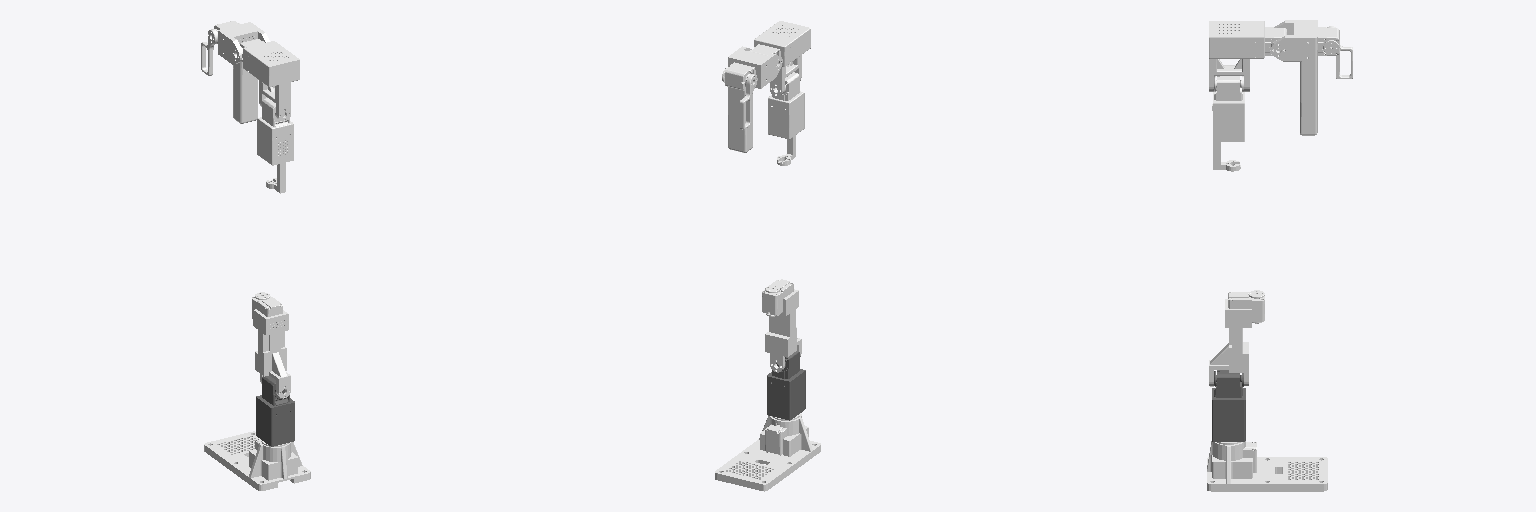
robot.urdf — gello_flexiv_urdf_v4:
<?xml version="1.0" encoding="utf-8"?>
<!-- This URDF was automatically created by SolidWorks to URDF Exporter! Originally created by Stephen Brawner (brawner@gmail.com) 
     Commit Version: 1.6.0-4-g7f85cfe  Build Version: 1.6.7995.38578
     For more information, please see http://wiki.ros.org/sw_urdf_exporter -->
<robot
  name="gello_flexiv_urdf_v4">
     <link name="world" />
   <joint name="joint0" type="fixed">
    <origin rpy="0 0 0" xyz="0 0 0" />
    <parent link="world" />
    <child link="base_link" />
  </joint>
  <link
    name="base_link">
    <inertial>
      <origin
        xyz="-0.000107112319704741 0.028494138890032 0.0157197746304848"
        rpy="0 0 0" />
      <mass
        value="0.159972573129097" />
      <inertia
        ixx="0.000279749981948947"
        ixy="1.03603995505185E-06"
        ixz="-1.32026175724342E-07"
        iyy="9.74063854279363E-05"
        iyz="3.48457303020746E-05"
        izz="0.000332483511876177" />
    </inertial>
    <visual>
      <origin
        xyz="0 0 0"
        rpy="0 0 0" />
      <geometry>
        <mesh
          filename="package://gello_flexiv_urdf_v4/meshes/base_link.STL" />
      </geometry>
      <material
        name="">
        <color
          rgba="1 1 1 1" />
      </material>
    </visual>
    <collision>
      <origin
        xyz="0 0 0"
        rpy="0 0 0" />
      <geometry>
        <mesh
          filename="package://gello_flexiv_urdf_v4/meshes/base_link.STL" />
      </geometry>
    </collision>
  </link>
  <link
    name="link1">
    <inertial>
      <origin
        xyz="4.42070699629982E-08 0.000283037429639135 -0.0256804602074707"
        rpy="0 0 0" />
      <mass
        value="0.074061766722475" />
      <inertia
        ixx="3.03756327571985E-05"
        ixy="7.13395100879856E-11"
        ixz="1.36623647181533E-09"
        iyy="2.88350095273903E-05"
        iyz="-4.9135987221571E-08"
        izz="2.07497185093034E-05" />
    </inertial>
    <visual>
      <origin
        xyz="0 0 0"
        rpy="0 0 0" />
      <geometry>
        <mesh
          filename="package://gello_flexiv_urdf_v4/meshes/link1.STL" />
      </geometry>
      <material
        name="">
        <color
          rgba="0.501960784313725 0.501960784313725 0.501960784313725 0.25" />
      </material>
    </visual>
    <collision>
      <origin
        xyz="0 0 0"
        rpy="0 0 0" />
      <geometry>
        <mesh
          filename="package://gello_flexiv_urdf_v4/meshes/link1.STL" />
      </geometry>
    </collision>
  </link>
  <joint
    name="joint1"
    type="revolute">
    <origin
      xyz="0 0 0.11454"
      rpy="0 0 0" />
    <parent
      link="base_link" />
    <child
      link="link1" />
    <axis
      xyz="0 0 1" />
    <limit
      lower="-1.57"
      upper="1.57"
      effort="500"
      velocity="10" />
  </joint>
  <link
    name="link2">
    <inertial>
      <origin
        xyz="2.87861802087813E-05 -0.0552026897557811 -0.0147654386595076"
        rpy="0 0 0" />
      <mass
        value="0.0753174795151533" />
      <inertia
        ixx="5.52578964075491E-05"
        ixy="1.07245547042861E-08"
        ixz="-5.68892868124126E-09"
        iyy="1.65121510827278E-05"
        iyz="2.27212466123903E-06"
        izz="5.22467557375296E-05" />
    </inertial>
    <visual>
      <origin
        xyz="0 0 0"
        rpy="0 0 0" />
      <geometry>
        <mesh
          filename="package://gello_flexiv_urdf_v4/meshes/link2.STL" />
      </geometry>
      <material
        name="">
        <color
          rgba="1 1 1 1" />
      </material>
    </visual>
    <collision>
      <origin
        xyz="0 0 0"
        rpy="0 0 0" />
      <geometry>
        <mesh
          filename="package://gello_flexiv_urdf_v4/meshes/link2.STL" />
      </geometry>
    </collision>
  </link>
  <joint
    name="joint2"
    type="continuous">
    <origin
      xyz="0 0.02555 0.02086"
      rpy="-1.5707963267949 0 0" />
    <parent
      link="link1" />
    <child
      link="link2" />
    <axis
      xyz="0 0 -1" />
    <limit
      lower="-1.57"
      upper="1.57"
      effort="500"
      velocity="10" />
  </joint>
  <link
    name="link3">
    <inertial>
      <origin
        xyz="-0.00902724643249804 0.0290512082083287 -0.0231115662898683"
        rpy="0 0 0" />
      <mass
        value="0.093272240352883" />
      <inertia
        ixx="8.04182978086656E-05"
        ixy="4.35780863974245E-06"
        ixz="-5.2613893158061E-06"
        iyy="5.66651157324863E-05"
        iyz="2.00203019277628E-05"
        izz="4.02028176130597E-05" />
    </inertial>
    <visual>
      <origin
        xyz="0 0 0"
        rpy="0 0 0" />
      <geometry>
        <mesh
          filename="package://gello_flexiv_urdf_v4/meshes/link3.STL" />
      </geometry>
      <material
        name="">
        <color
          rgba="1 1 1 0.25" />
      </material>
    </visual>
    <collision>
      <origin
        xyz="0 0 0"
        rpy="0 0 0" />
      <geometry>
        <mesh
          filename="package://gello_flexiv_urdf_v4/meshes/link3.STL" />
      </geometry>
    </collision>
  </link>
  <joint
    name="joint3"
    type="continuous">
    <origin
      xyz="3.33329999999965E-05 -0.12307958857722 0.00921665402077125"
      rpy="-1.5707963267949 0 0" />
    <parent
      link="link2" />
    <child
      link="link3" />
    <axis
      xyz="0 0 -1" />
    <limit
      lower="-1.57"
      upper="1.57"
      effort="500"
      velocity="10" />
  </joint>
  <link
    name="link4">
    <inertial>
      <origin
        xyz="0.00923915073389797 0.0557675075660092 0.00249855918394421"
        rpy="0 0 0" />
      <mass
        value="0.0923443779541952" />
      <inertia
        ixx="8.78908521111399E-05"
        ixy="-4.06669152290435E-06"
        ixz="3.28478724954878E-06"
        iyy="2.9920225792953E-05"
        iyz="1.34168479921738E-05"
        izz="7.78581849140491E-05" />
    </inertial>
    <visual>
      <origin
        xyz="0 0 0"
        rpy="0 0 0" />
      <geometry>
        <mesh
          filename="package://gello_flexiv_urdf_v4/meshes/link4.STL" />
      </geometry>
      <material
        name="">
        <color
          rgba="1 1 1 0.25" />
      </material>
    </visual>
    <collision>
      <origin
        xyz="0 0 0"
        rpy="0 0 0" />
      <geometry>
        <mesh
          filename="package://gello_flexiv_urdf_v4/meshes/link4.STL" />
      </geometry>
    </collision>
  </link>
  <joint
    name="joint4"
    type="continuous">
    <origin
      xyz="-0.0106666629999999 0.00921665402077167 -0.0809234768240421"
      rpy="-1.5707963267949 0 0" />
    <parent
      link="link3" />
    <child
      link="link4" />
    <axis
      xyz="0 0 -1" />
    <limit
      lower="-1.57"
      upper="1.57"
      effort="500"
      velocity="10" />
  </joint>
  <link
    name="link5">
    <inertial>
      <origin
        xyz="-1.93588053116478E-05 -0.00727739025631974 0.0693671699422631"
        rpy="0 0 0" />
      <mass
        value="0.0593546664063659" />
      <inertia
        ixx="3.22765104121006E-05"
        ixy="-7.17409961340685E-09"
        ixz="6.36259262660492E-09"
        iyy="3.09883147887609E-05"
        iyz="-1.68523149843028E-06"
        izz="1.42161900460621E-05" />
    </inertial>
    <visual>
      <origin
        xyz="0 0 0"
        rpy="0 0 0" />
      <geometry>
        <mesh
          filename="package://gello_flexiv_urdf_v4/meshes/link5.STL" />
      </geometry>
      <material
        name="">
        <color
          rgba="1 1 1 0.25" />
      </material>
    </visual>
    <collision>
      <origin
        xyz="0 0 0"
        rpy="0 0 0" />
      <geometry>
        <mesh
          filename="package://gello_flexiv_urdf_v4/meshes/link5.STL" />
      </geometry>
    </collision>
  </link>
  <joint
    name="joint5"
    type="continuous">
    <origin
      xyz="0.0106666629999999 0.0835623640316056 0.0199833329999996"
      rpy="-1.5707963267949 0 0" />
    <parent
      link="link4" />
    <child
      link="link5" />
    <axis
      xyz="0 0 1" />
    <limit
      lower="-1.57"
      upper="1.57"
      effort="500"
      velocity="10" />
  </joint>
  <link
    name="link6">
    <inertial>
      <origin
        xyz="0.000213105143710646 -0.0533087383269601 -0.0171994757072082"
        rpy="0 0 0" />
      <mass
        value="0.113419791944589" />
      <inertia
        ixx="7.19605742444759E-05"
        ixy="1.65728005235068E-08"
        ixz="-1.04442558513027E-07"
        iyy="5.44370586239155E-05"
        iyz="3.32164559529974E-06"
        izz="5.33935300304585E-05" />
    </inertial>
    <visual>
      <origin
        xyz="0 0 0"
        rpy="0 0 0" />
      <geometry>
        <mesh
          filename="package://gello_flexiv_urdf_v4/meshes/link6.STL" />
      </geometry>
      <material
        name="">
        <color
          rgba="1 1 1 1" />
      </material>
    </visual>
    <collision>
      <origin
        xyz="0 0 0"
        rpy="0 0 0" />
      <geometry>
        <mesh
          filename="package://gello_flexiv_urdf_v4/meshes/link6.STL" />
      </geometry>
    </collision>
  </link>
  <joint
    name="joint6"
    type="continuous">
    <origin
      xyz="-3.33330000001075E-05 0.021263333 0.115101270567133"
      rpy="-1.5707963267949 0 0" />
    <parent
      link="link5" />
    <child
      link="link6" />
    <axis
      xyz="0 0 -1" />
    <limit
      lower="-1.57"
      upper="1.57"
      effort="500"
      velocity="10" />
  </joint>
  <link
    name="link7">
    <inertial>
      <origin
        xyz="0.0343825147295302 -0.0330080670933975 0.0310408092686399"
        rpy="0 0 0" />
      <mass
        value="0.108746373275889" />
      <inertia
        ixx="0.000182315082927333"
        ixy="1.76174949960655E-05"
        ixz="-2.87328467705582E-06"
        iyy="3.41902386677673E-05"
        iyz="1.81572416231181E-05"
        izz="0.000175748895693452" />
    </inertial>
    <visual>
      <origin
        xyz="0 0 0"
        rpy="0 0 0" />
      <geometry>
        <mesh
          filename="package://gello_flexiv_urdf_v4/meshes/link7.STL" />
      </geometry>
      <material
        name="">
        <color
          rgba="1 1 1 0.25" />
      </material>
    </visual>
    <collision>
      <origin
        xyz="0 0 0"
        rpy="0 0 0" />
      <geometry>
        <mesh
          filename="package://gello_flexiv_urdf_v4/meshes/link7.STL" />
      </geometry>
    </collision>
  </link>
  <joint
    name="joint7"
    type="continuous">
    <origin
      xyz="-0.0248 -0.05791667 0.03511"
      rpy="-3.14159265358979 -1.57079631189374 0" />
    <parent
      link="link6" />
    <child
      link="link7" />
    <axis
      xyz="0 0 1" />
    <limit
      lower="-1.57"
      upper="1.57"
      effort="500"
      velocity="10" />
  </joint>
  <link
    name="link8">
    <inertial>
      <origin
        xyz="0.0089207 -0.022866 -0.00675"
        rpy="0 0 0" />
      <mass
        value="0.0051415" />
      <inertia
        ixx="2.283E-06"
        ixy="6.2873E-07"
        ixz="-5.8357E-14"
        iyy="4.9225E-07"
        iyz="-1.8461E-13"
        izz="2.736E-06" />
    </inertial>
    <visual>
      <origin
        xyz="0 0 0"
        rpy="0 0 0" />
      <geometry>
        <mesh
          filename="package://gello_flexiv_urdf_v4/meshes/link8.STL" />
      </geometry>
      <material
        name="">
        <color
          rgba="1 1 1 1" />
      </material>
    </visual>
    <collision>
      <origin
        xyz="0 0 0"
        rpy="0 0 0" />
      <geometry>
        <mesh
          filename="package://gello_flexiv_urdf_v4/meshes/link8.STL" />
      </geometry>
    </collision>
  </link>
  <joint
    name="joint8"
    type="continuous">
    <origin  
      xyz="0.0652200000000002 0 0.0103"
      rpy="0 0 0" />
    <parent
      link="link7" />
    <child
      link="link8" />
    <axis
      xyz="0 0 1" />
  </joint>
  <link name="flange"/>
  <joint name="link7_to_flange" type="fixed">
        <parent link="link7" />
        <child link="flange" />
        <origin rpy="0.0 0.0 0" xyz="0.0 0.0 0.05" />
    </joint>
</robot>

--- What the picture shows (computed from the rendered views, not written in the file) ---
The picture shows the robot from 3 angles, left to right: view 1: azimuth 30°, elevation 25°; view 2: azimuth 150°, elevation 25°; view 3: azimuth 270°, elevation 25°; orthographic projection.
Robot: gello_flexiv_urdf_v4 — 11 links, 10 joints (1 revolute, 7 continuous, 2 fixed); root link world; default pose: all joints at 0.
Visible links, largest first — view 1: base_link, link6, link2, link7, link5, link1; view 2: base_link, link7, link2, link6, link5, link1, link8; view 3: base_link, link7, link6, link2, link5, link1.
Link boxes in pixels (x1,y1,x2,y2): base_link: [204, 431, 310, 490]; link6: [240, 39, 299, 121]; link2: [252, 292, 290, 398]; link7: [214, 21, 269, 123]; link5: [257, 97, 293, 193]; link1: [256, 376, 294, 446]; base_link: [715, 413, 820, 491]; link7: [722, 46, 782, 152]; link2: [762, 279, 801, 372]; link6: [749, 21, 810, 96]; link5: [768, 72, 804, 165]; link1: [767, 349, 805, 420]; link8: [740, 74, 757, 129]; base_link: [1207, 441, 1327, 491]; link7: [1271, 20, 1339, 135]; link6: [1209, 21, 1286, 91]; link2: [1209, 290, 1264, 386]; link5: [1212, 76, 1244, 171]; link1: [1212, 370, 1245, 441].
Size in the robot's own frame: 0.08 by 0.1817 by 0.6133 metres.
7 mesh visuals loaded from 9 distinct referenced files (7 binary STL); not drawn: 2 (reference not matched to a file when rendering).
